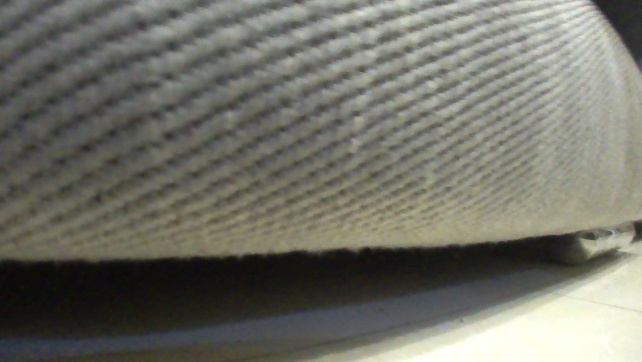sofa1: (0, 0, 641, 271)
